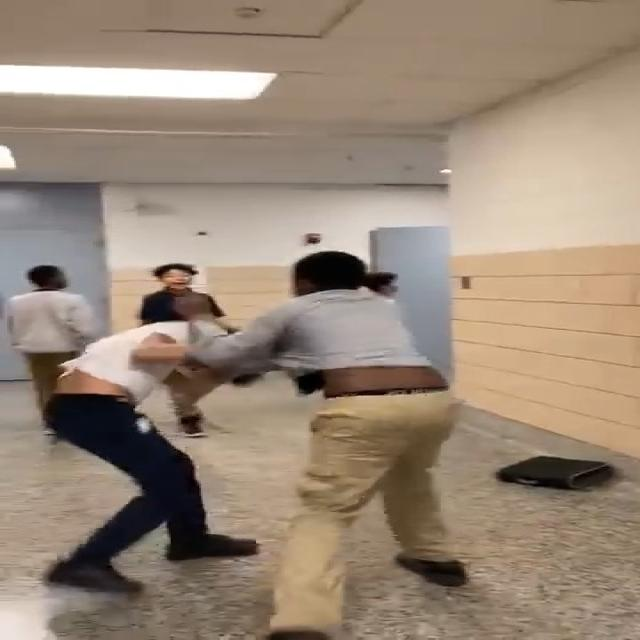fight: (36, 250, 467, 640)
